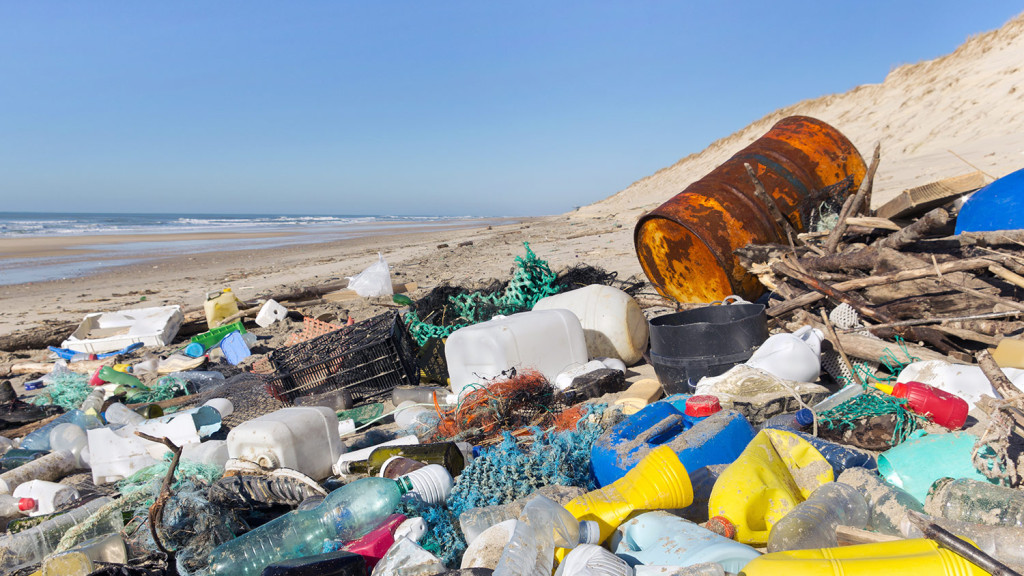litter: (622, 108, 898, 308), (143, 456, 470, 573), (269, 305, 453, 408), (504, 449, 700, 541), (711, 416, 847, 544), (443, 300, 596, 397), (445, 426, 601, 521), (231, 399, 359, 483), (52, 301, 191, 352), (885, 365, 978, 441), (34, 402, 127, 472), (14, 475, 81, 529), (202, 286, 239, 333)
